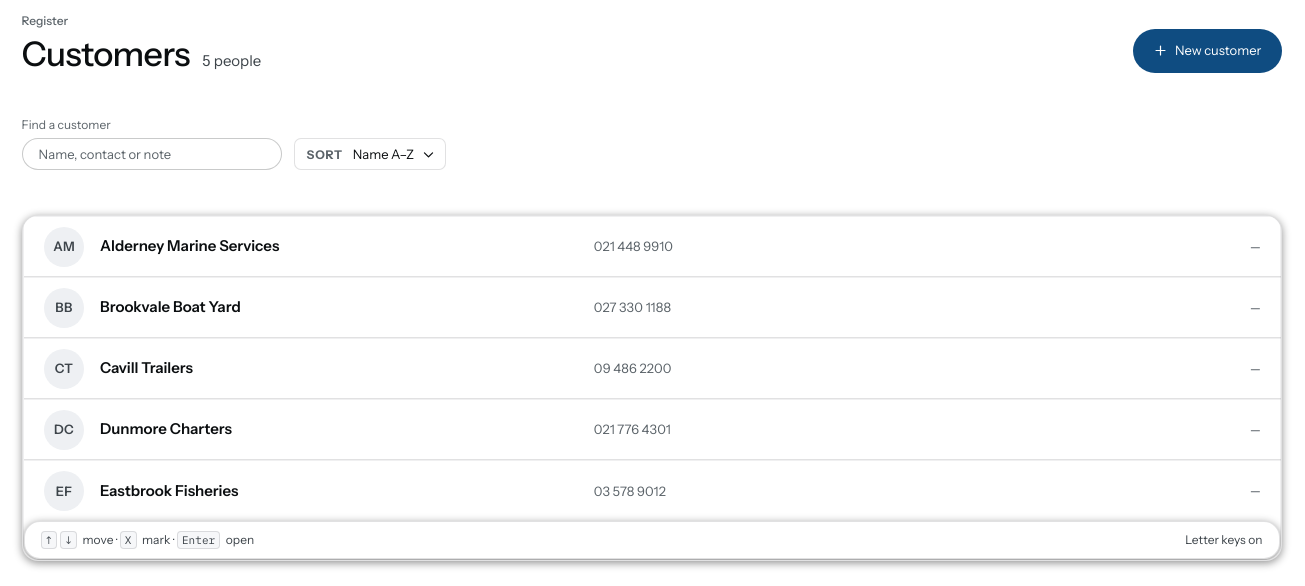
Test: the single-character shortcuts are legal › is inert unless the register itself holds the focus
Click the search field.
click(152, 154)  # box top-left (22, 138), bottom-right (282, 170)
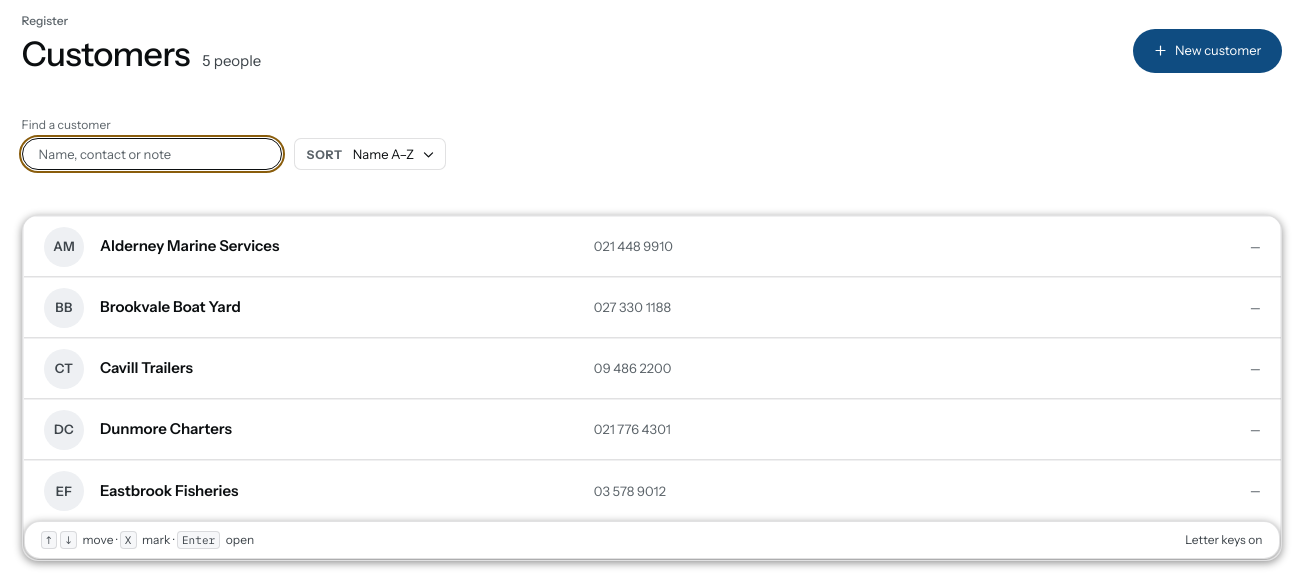
Type keys "jkx"
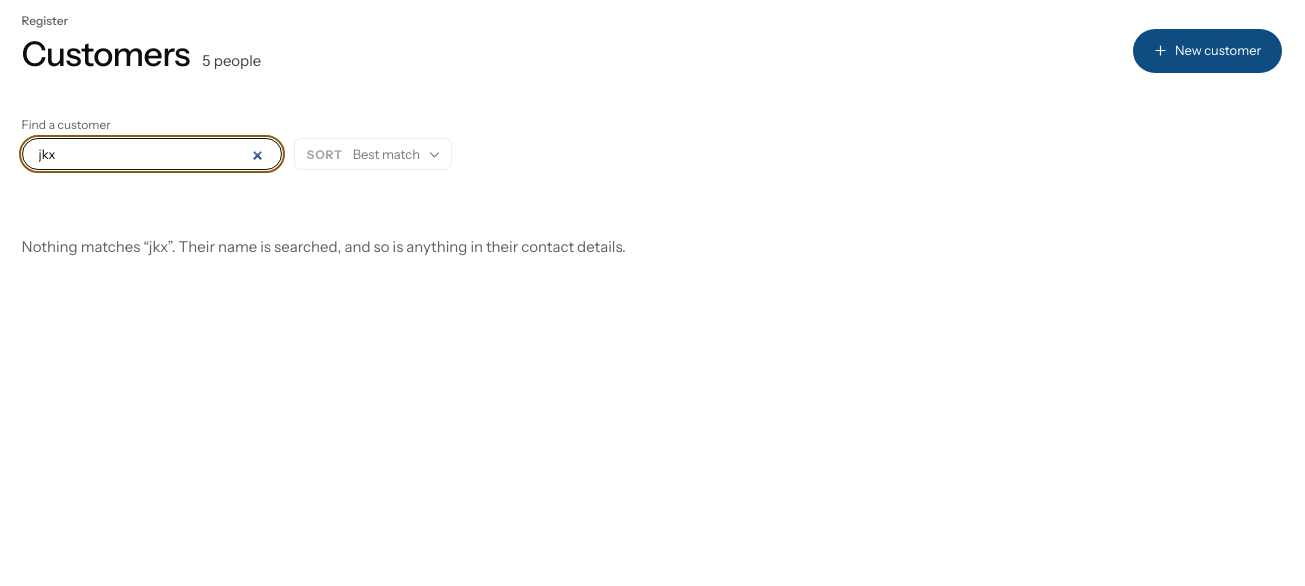
expect the search field holds "jkx": met, box top-left (22, 138), bottom-right (282, 170)
